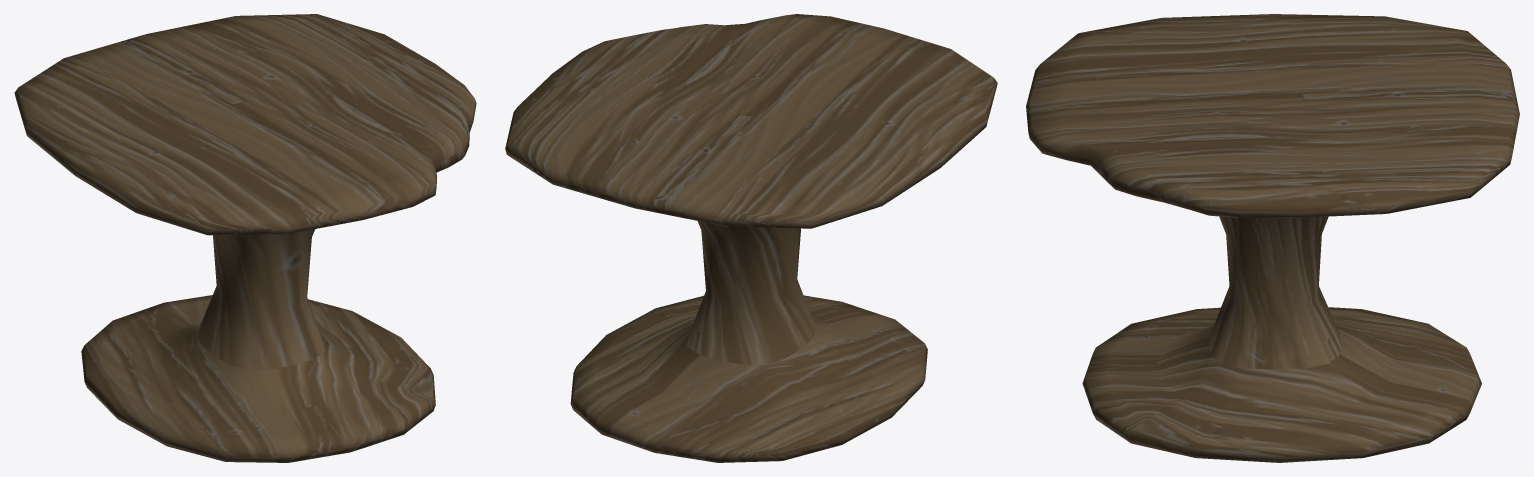
Rendered from Mesita.fbx.
The picture shows the model from 3 angles, left to right: view 1: azimuth 30°, elevation 25°; view 2: azimuth 150°, elevation 25°; view 3: azimuth 270°, elevation 25°; orthographic projection. The views are drawn at different scales.
Parts seen in each view (by area): view 1: Mesita; view 2: Mesita; view 3: Mesita.
Part boxes in pixels (<box>): Mesita: <box>14,14,476,462</box>; Mesita: <box>505,14,997,462</box>; Mesita: <box>1026,14,1519,462</box>.
Size of the model in its own units: 849 by 608 by 917.
